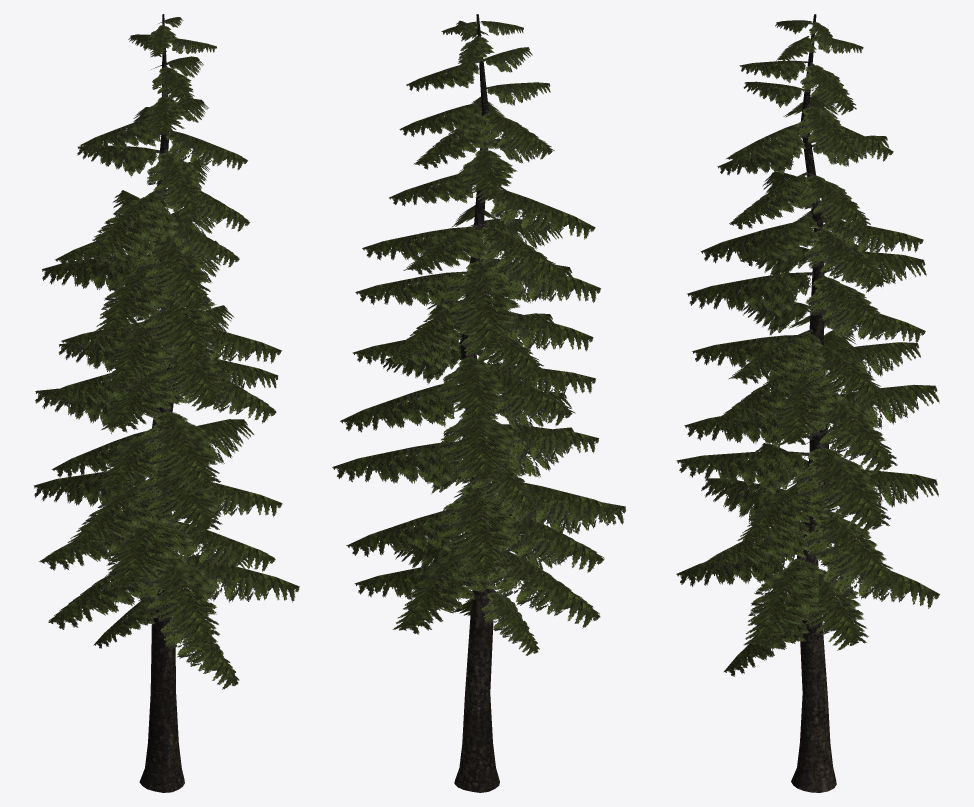
File: tree_2.obj
3 renders of one model, left to right at view 1: azimuth 30°, elevation 25°; view 2: azimuth 150°, elevation 25°; view 3: azimuth 270°, elevation 25°, orthographic.
Visible parts, largest first — view 1: tree_2_leaves, tree_2; view 2: tree_2_leaves, tree_2; view 3: tree_2_leaves, tree_2.
Part boxes in pixels (<box>): tree_2_leaves: <box>33,14,299,689</box>; tree_2: <box>139,14,184,792</box>; tree_2_leaves: <box>332,14,625,655</box>; tree_2: <box>454,14,499,792</box>; tree_2_leaves: <box>676,14,939,676</box>; tree_2: <box>791,14,836,792</box>.
Bounding box in the file's own units: 1.46 × 4.13 × 1.43.
